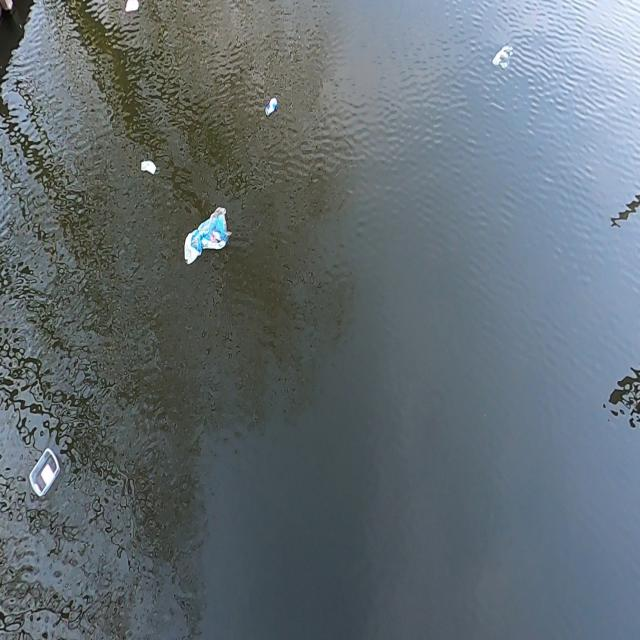Autre plastique: (28, 440, 63, 504)
Non plastique: (137, 155, 163, 179), (261, 91, 281, 119)
Sac plastique: (180, 204, 234, 270), (490, 41, 514, 75)
